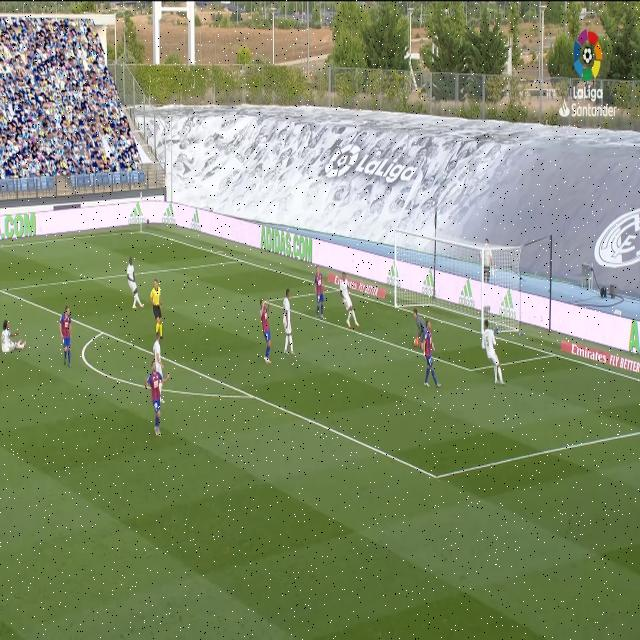Ball: (412, 332, 420, 352)
GoalKeeper: (409, 306, 430, 344)
TEAM 1: (146, 362, 174, 438), (423, 319, 447, 392), (253, 290, 272, 372), (58, 304, 80, 371), (312, 260, 327, 325)
TEAM 2: (482, 320, 507, 393), (338, 270, 362, 334), (124, 253, 147, 313), (1, 318, 27, 359), (282, 286, 296, 362), (155, 331, 167, 387)
